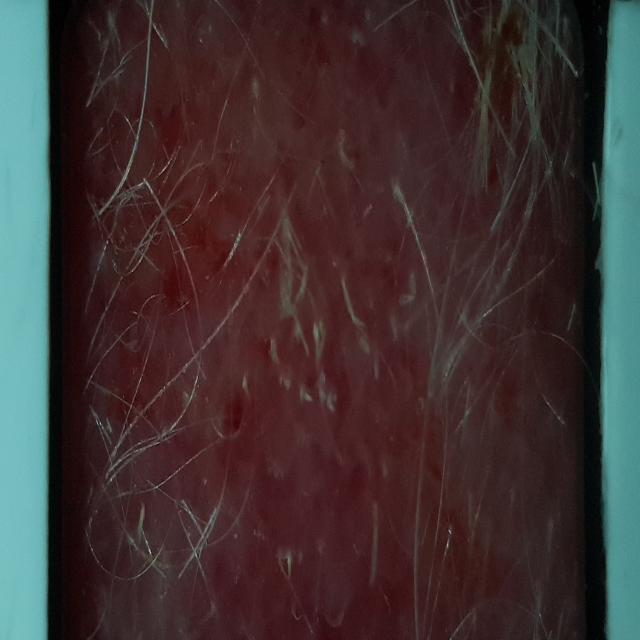hotspot: (62, 3, 582, 640)
